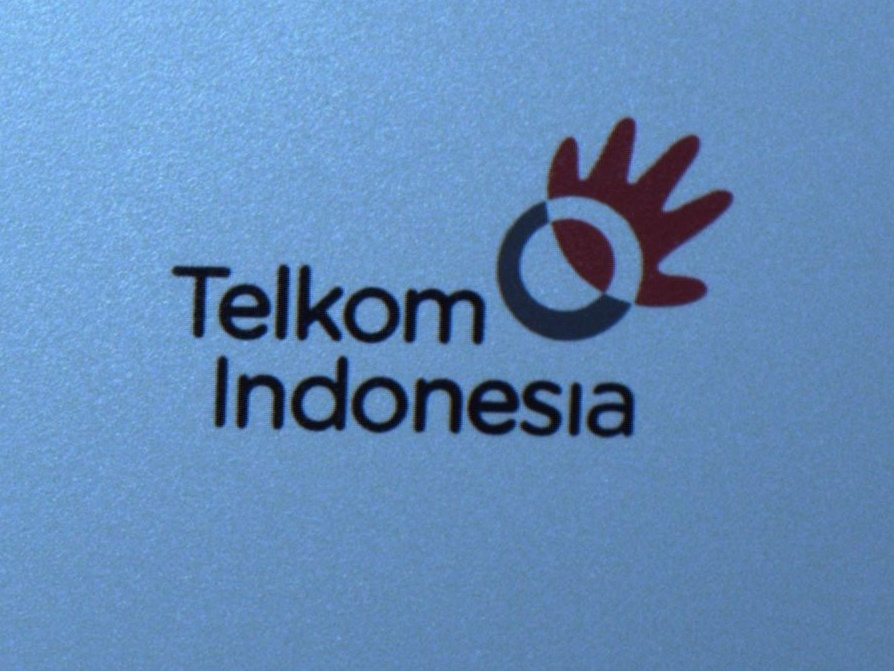BQ_IndonTelkom: (170, 114, 733, 448)
